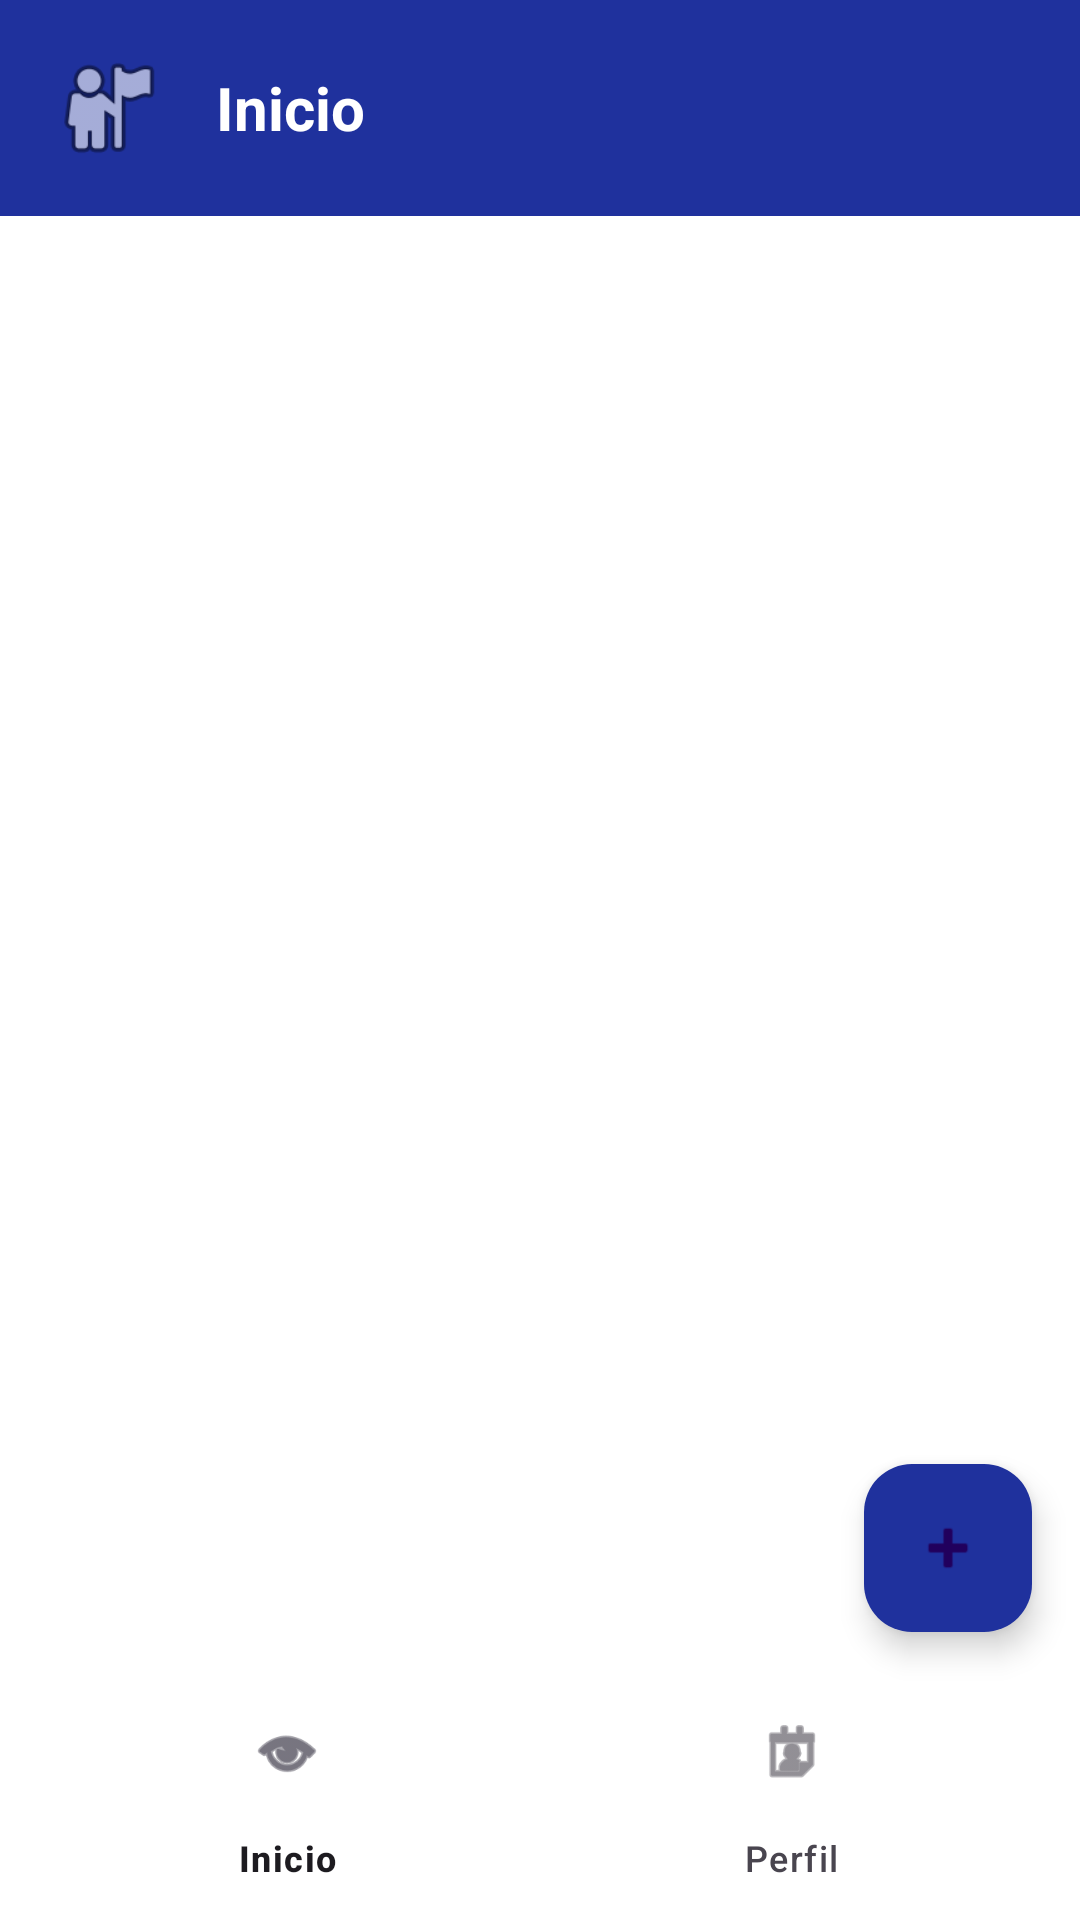

Screen size 1080 x 1920. Icon name, then its box in pixels as rect(x1, y1, x2, y2):
Botón de publicar: rect(864, 1464, 1032, 1632)
